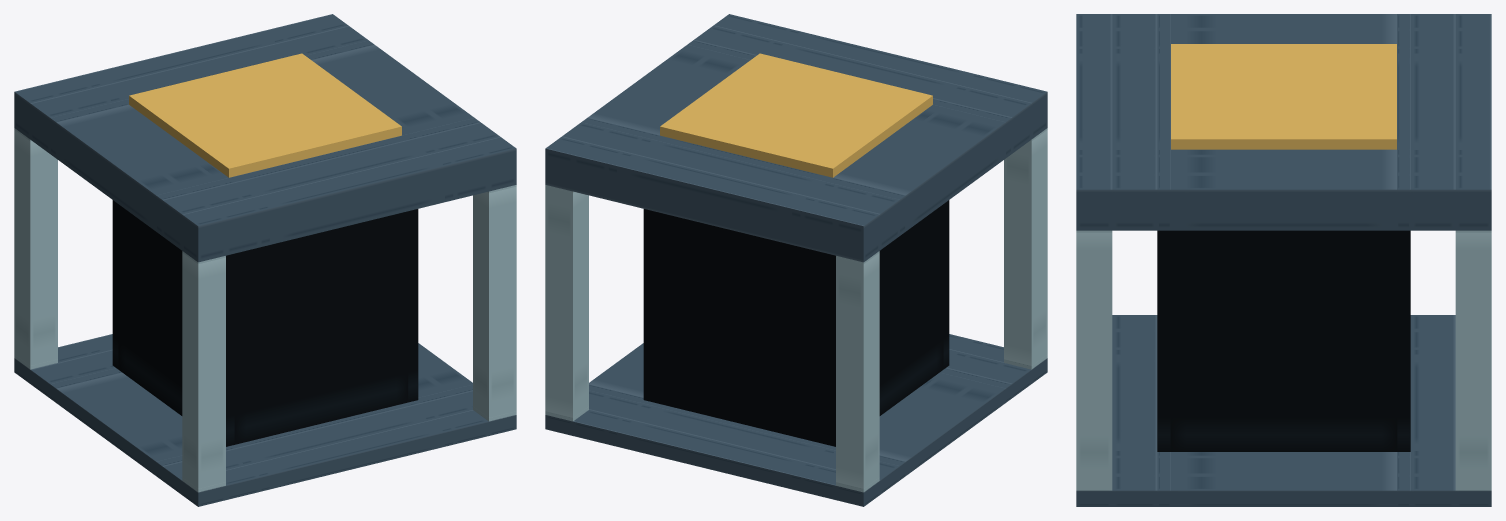
The model's file is sc_factory_four.obj.
3 renders of one model, left to right at view 1: azimuth 30°, elevation 25°; view 2: azimuth 150°, elevation 25°; view 3: azimuth 270°, elevation 25°, orthographic. The views are drawn at different scales.
Bounding box in the file's own units: 18.4 × 16 × 18.4.
Materials: 1 (1 with a texture image).
